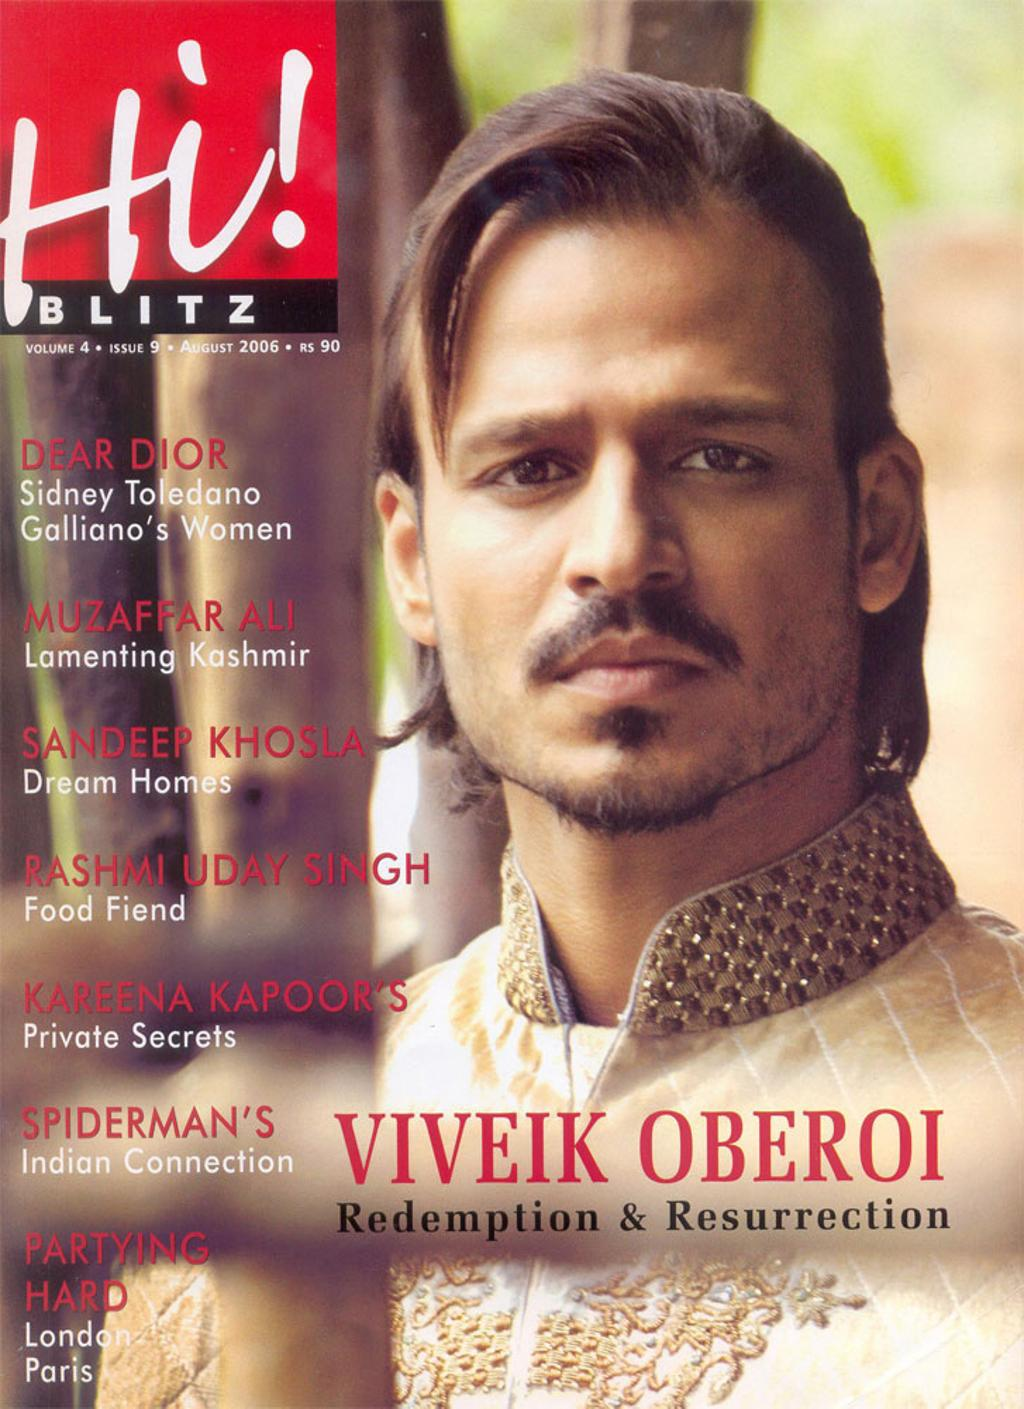face: (436, 265, 849, 829)
